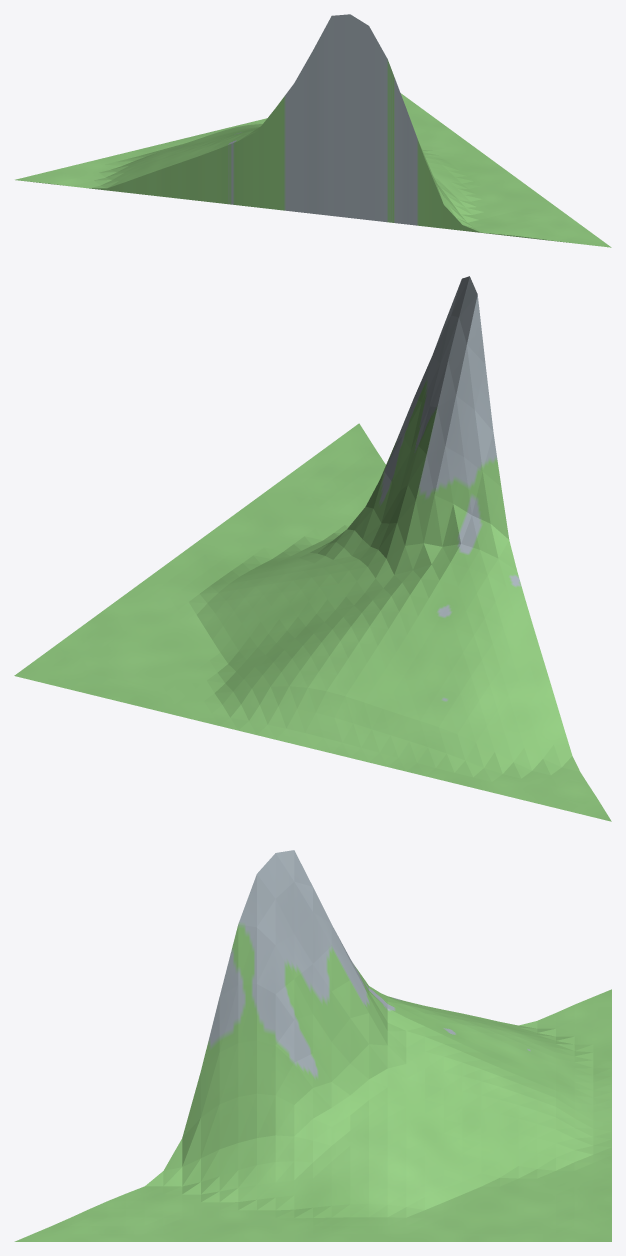
File: Grass_RockyMountains_02_SE.obj
The picture shows the model from 3 angles, top to bottom: view 1: azimuth 30°, elevation 25°; view 2: azimuth 150°, elevation 25°; view 3: azimuth 270°, elevation 25°; orthographic projection. The views are drawn at different scales.
Size of the model in its own units: 10 by 5.14 by 10.
1 material, 1 textured.
